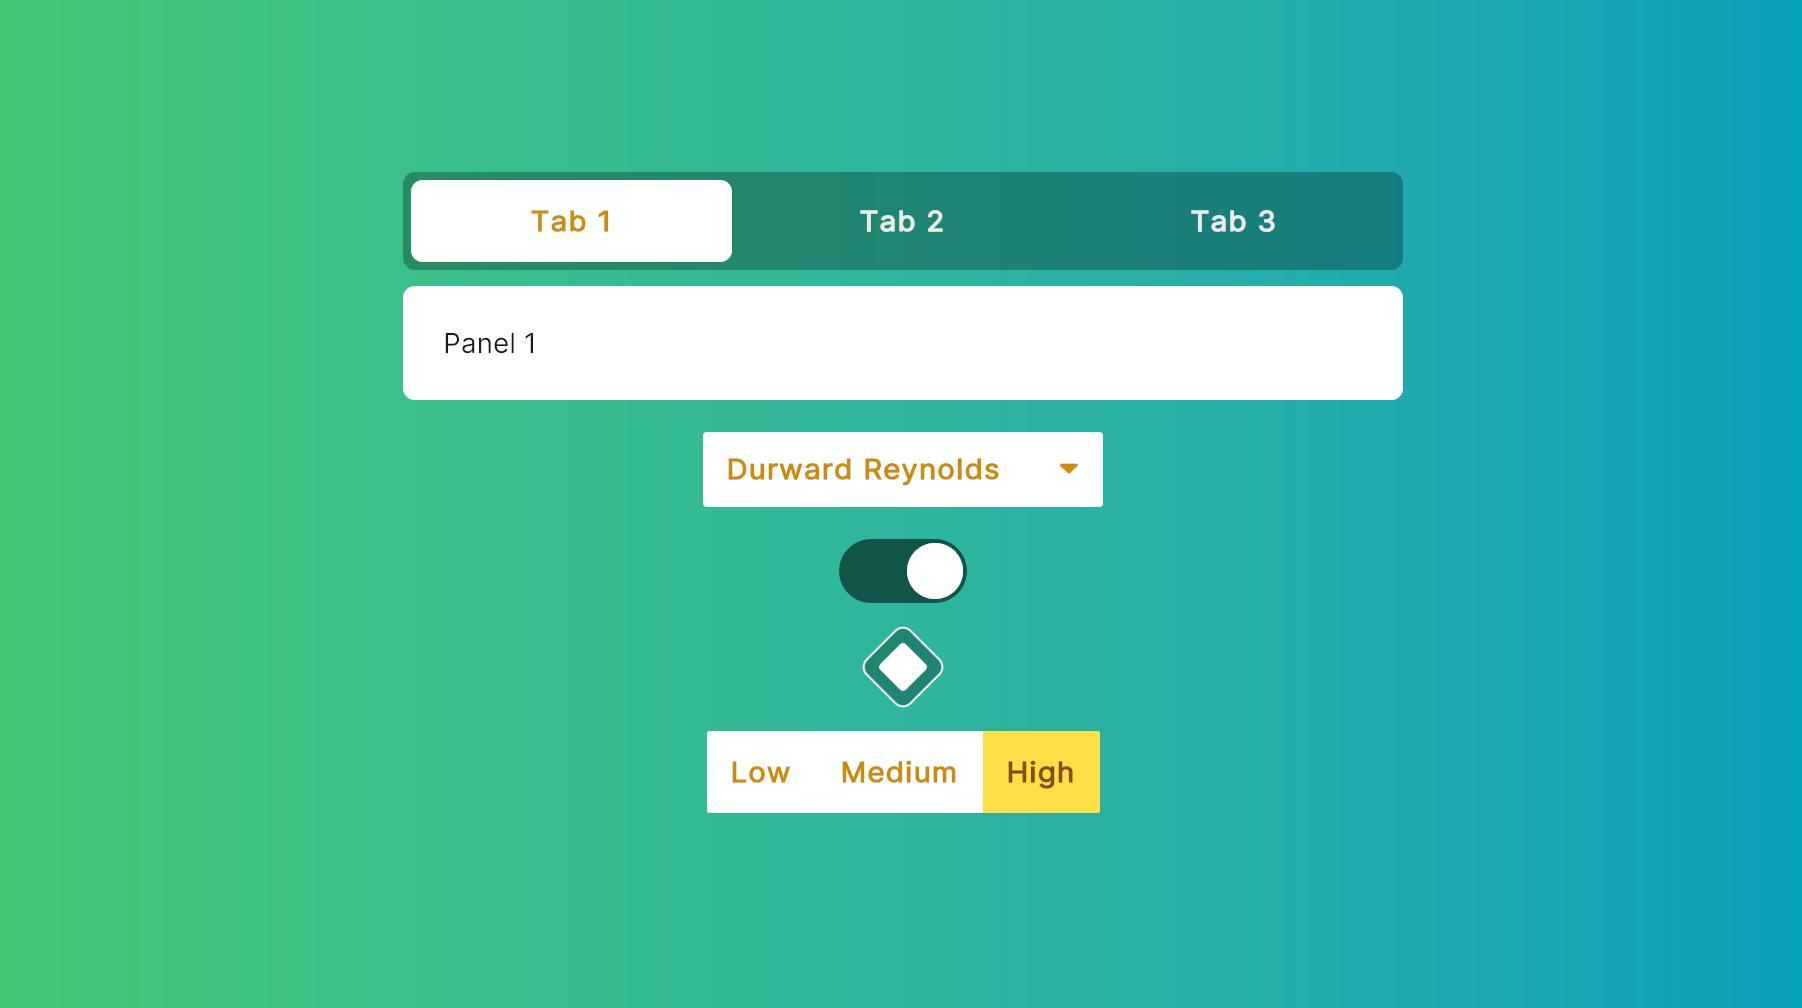button: (413, 182, 734, 263), (983, 734, 1101, 814)
dropdown: (703, 433, 1105, 510)
input: (405, 284, 1403, 402)
label: (855, 206, 951, 241), (1188, 207, 1281, 240), (844, 760, 957, 788), (724, 755, 795, 788)
switch: (842, 539, 967, 604)
